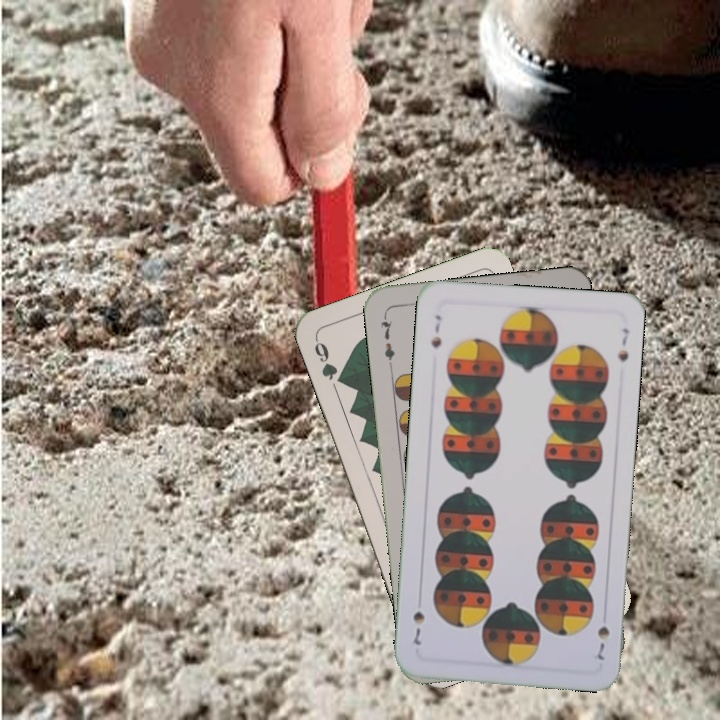E7: (376, 310, 397, 369)
G9: (310, 335, 348, 388)
S7: (593, 622, 612, 663), (427, 311, 444, 351)
